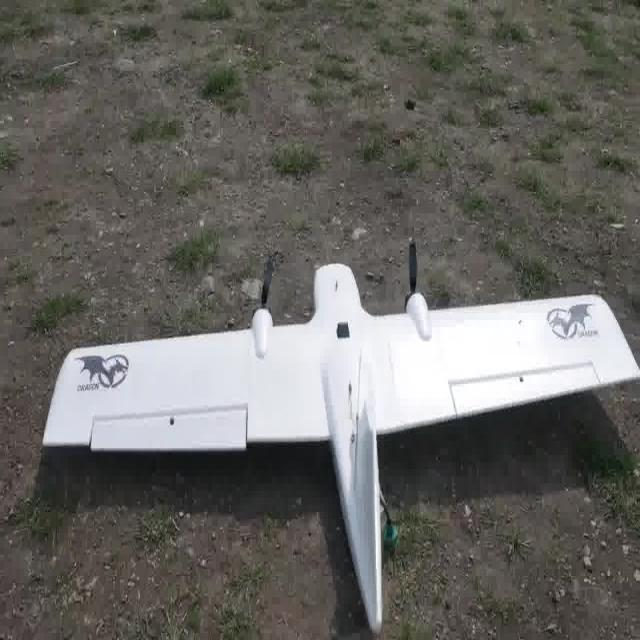iha: (39, 221, 639, 636)
